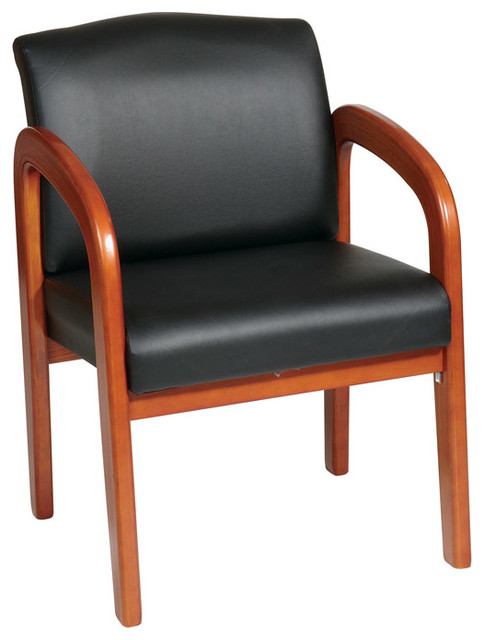chairs: (8, 14, 471, 629)
